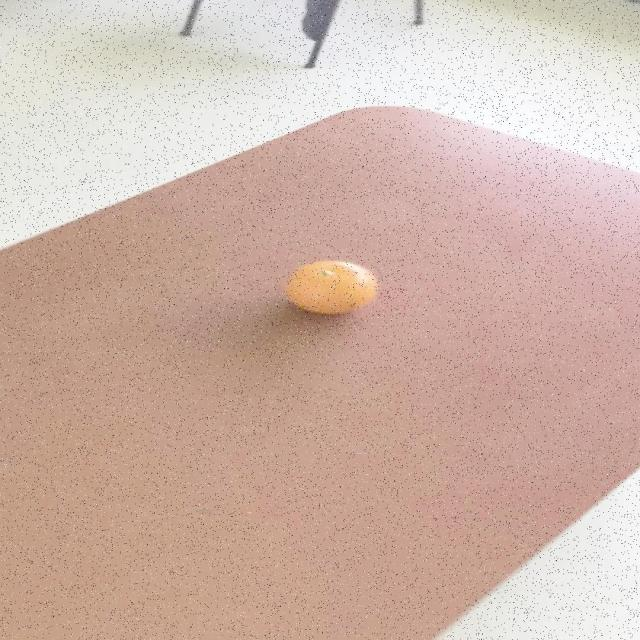Orange: (286, 260, 378, 314)
